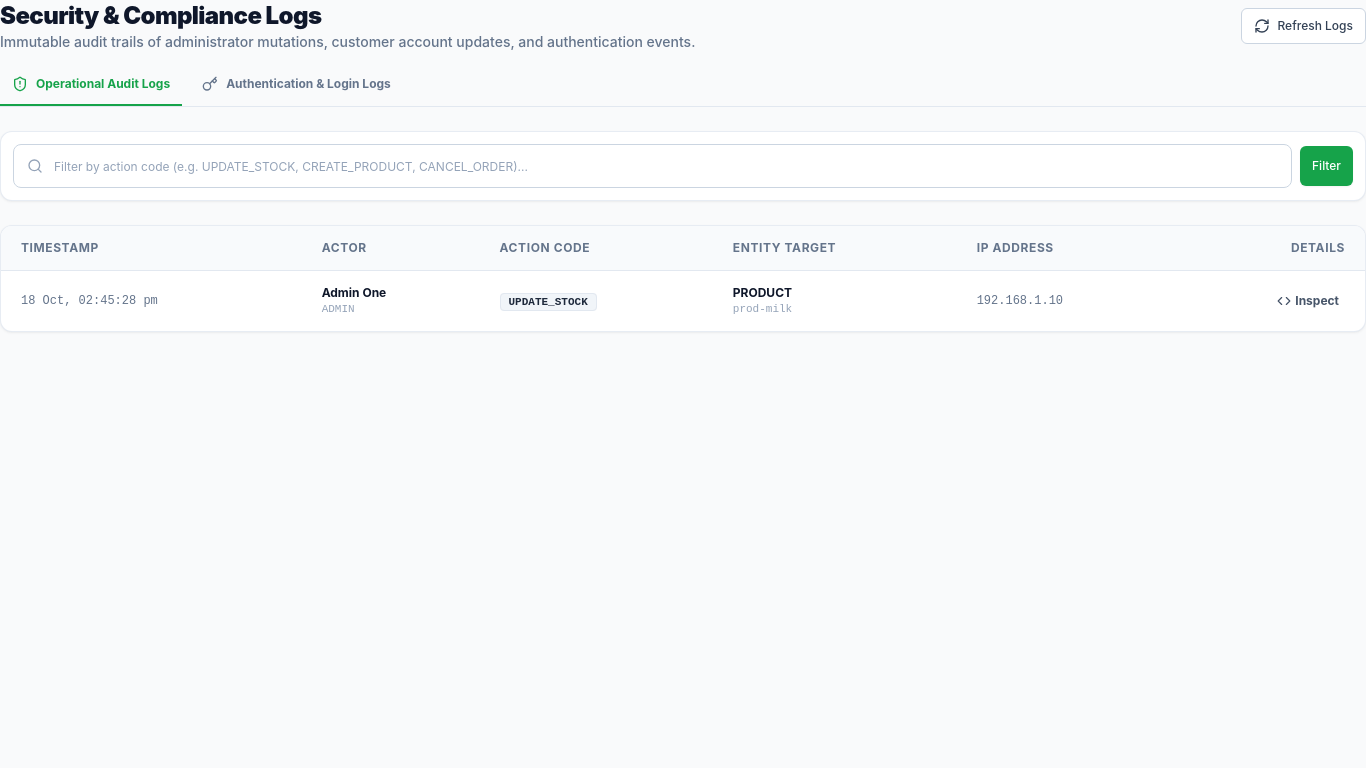
Test: Phase 9: Admin Backoffice UI Components & Flows › AdminAuditLogsPage › renders operational audit logs and allows tab switching
Expected: the text "UPDATE_STOCK" is shown, [500, 292, 597, 310]
Expected: the text "192.168.1.10" is shown, [957, 270, 1172, 331]
Inspect details modal
Click the button "Inspect" at (1308, 301), box [1271, 287, 1345, 315]
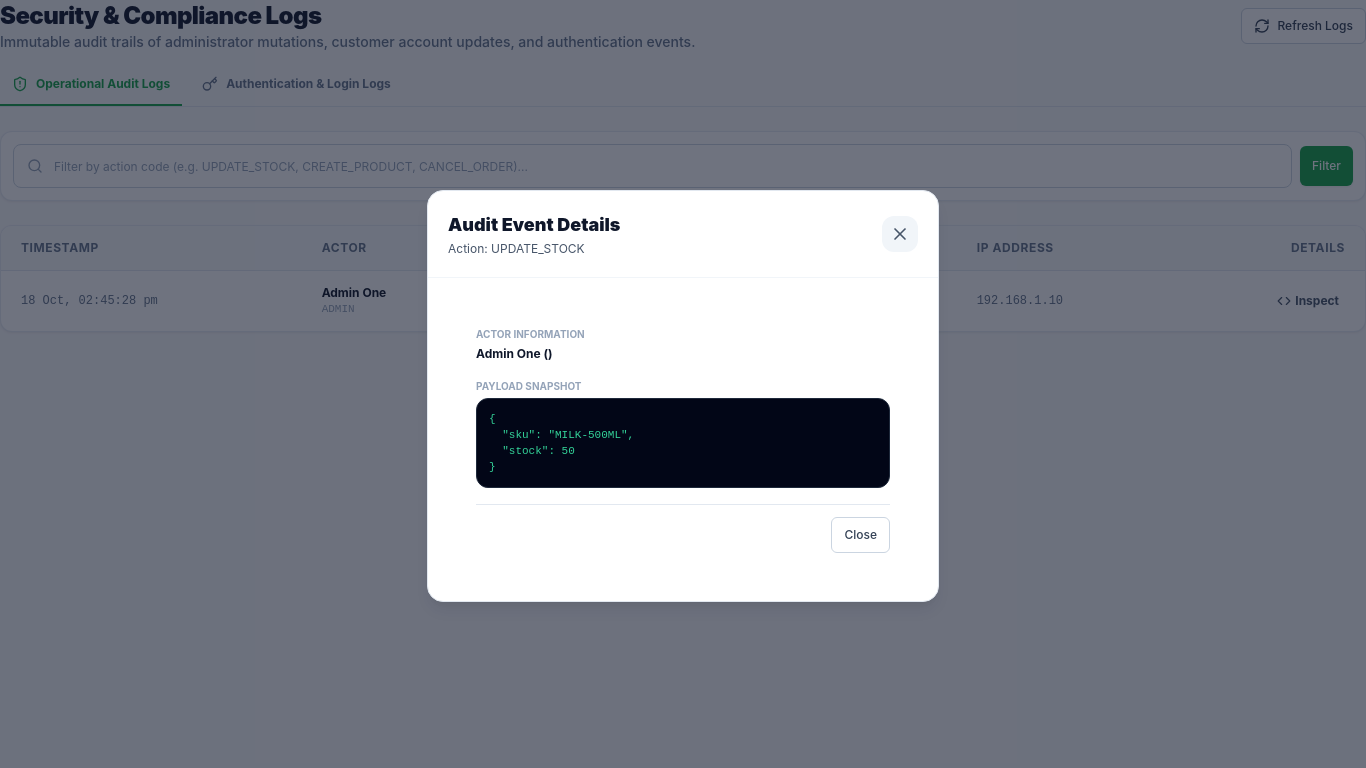
Result: the heading "Audit Event Details" is shown at [448, 214, 620, 235]
Result: the text "Action: UPDATE_STOCK" is shown at [448, 241, 585, 256]
